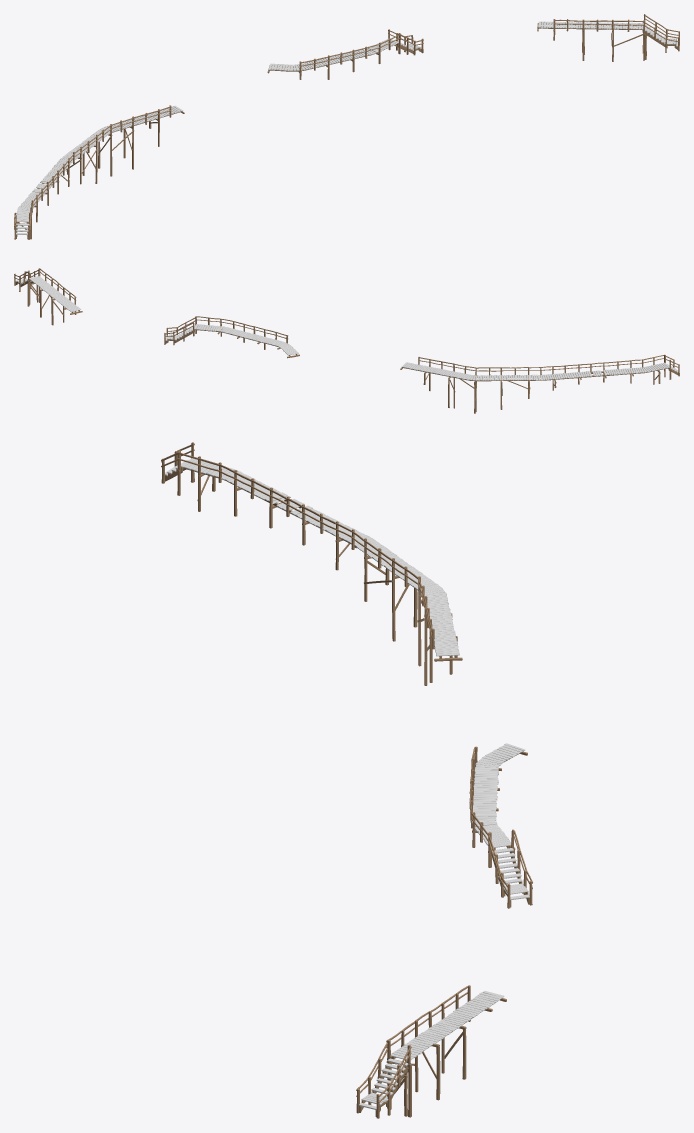
File: structures_cliff_walks.glb
3 views of the same model, one above another, from view 1: azimuth 30°, elevation 25°; view 2: azimuth 150°, elevation 25°; view 3: azimuth 270°, elevation 25° (orthographic). The views are drawn at different scales.
Parts seen in each view (by area): view 1: cliff walk mid north-west to west shoulder timber, cliff walk mid north-west to west shoulder plank_walk, cliff walk low north-east to mid north timber, cliff walk mid north-west to mid north timber, cliff walk mid north-west to mid north plank_walk, cliff walk low north-east to mid north plank_walk; view 2: cliff walk mid north-west to west shoulder timber, cliff walk mid north-west to west shoulder plank_walk, cliff walk mid north-west to mid north timber, cliff walk low north-east to mid north timber, cliff walk mid north-west to mid north plank_walk, cliff walk low north-east to mid north plank_walk; view 3: cliff walk mid north-west to west shoulder timber, cliff walk mid north-west to west shoulder plank_walk, cliff walk low north-east to mid north timber, cliff walk mid north-west to mid north plank_walk, cliff walk low north-east to mid north plank_walk, cliff walk mid north-west to mid north timber.
Part boxes in pixels (x1,y1,x2,y2): cliff walk mid north-west to west shoulder timber: (14, 105, 184, 239); cliff walk mid north-west to west shoulder plank_walk: (16, 105, 183, 235); cliff walk low north-east to mid north timber: (537, 14, 679, 61); cliff walk mid north-west to mid north timber: (267, 29, 423, 79); cliff walk mid north-west to mid north plank_walk: (268, 38, 421, 70); cliff walk low north-east to mid north plank_walk: (538, 21, 677, 46); cliff walk mid north-west to west shoulder timber: (400, 354, 679, 413); cliff walk mid north-west to west shoulder plank_walk: (402, 362, 678, 380); cliff walk mid north-west to mid north timber: (164, 316, 299, 358); cliff walk low north-east to mid north timber: (14, 268, 82, 325); cliff walk mid north-west to mid north plank_walk: (165, 324, 298, 355); cliff walk low north-east to mid north plank_walk: (15, 276, 81, 311); cliff walk mid north-west to west shoulder timber: (161, 442, 462, 685); cliff walk mid north-west to west shoulder plank_walk: (165, 458, 459, 656); cliff walk low north-east to mid north timber: (356, 985, 506, 1118); cliff walk mid north-west to mid north plank_walk: (471, 743, 529, 900); cliff walk low north-east to mid north plank_walk: (359, 991, 504, 1109); cliff walk mid north-west to mid north timber: (469, 746, 532, 908).
Bounding box in the file's own units: 86.98 × 6.97 × 22.79.
